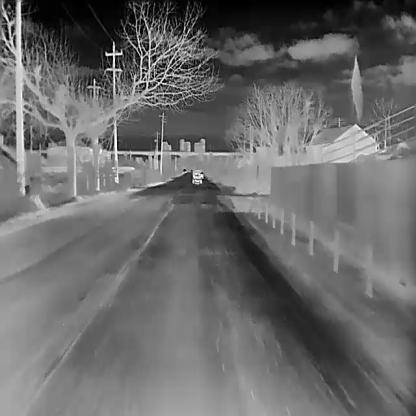car: (192, 167, 203, 183), (182, 168, 187, 173)
